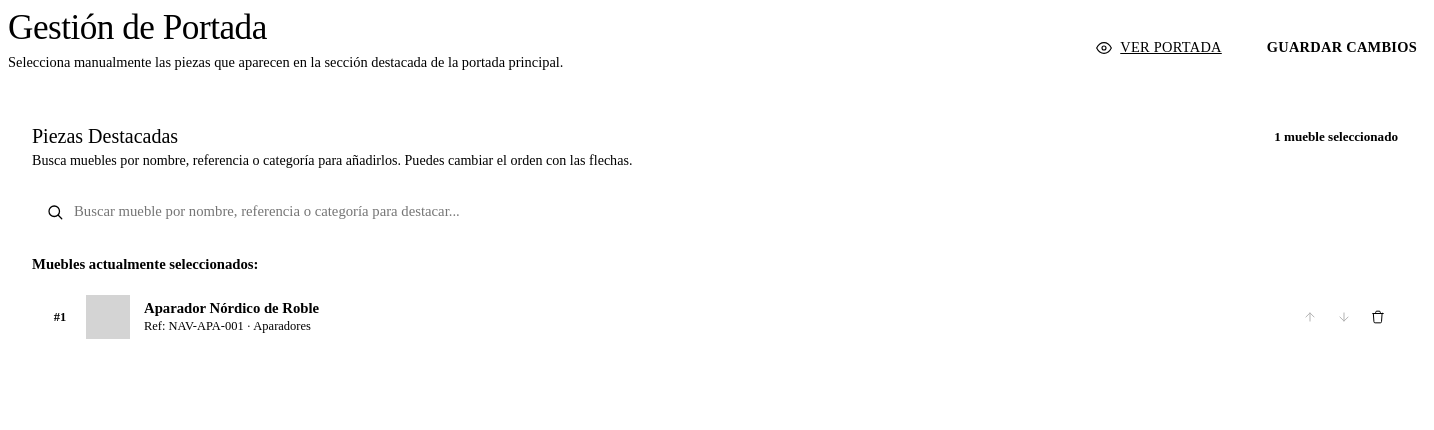
Test case: PortadaTab — Pestaña de Portada en el Panel de Administración › permite buscar y añadir un mueble a la lista de destacados
expect the text "Aparador Nórdico de Roble" is shown: met, box [144, 300, 319, 316]
Type "orejero" into the field named "Buscar muebles para añadir a destacados".
click(720, 212); type("orejero")  # box [32, 191, 1408, 232]
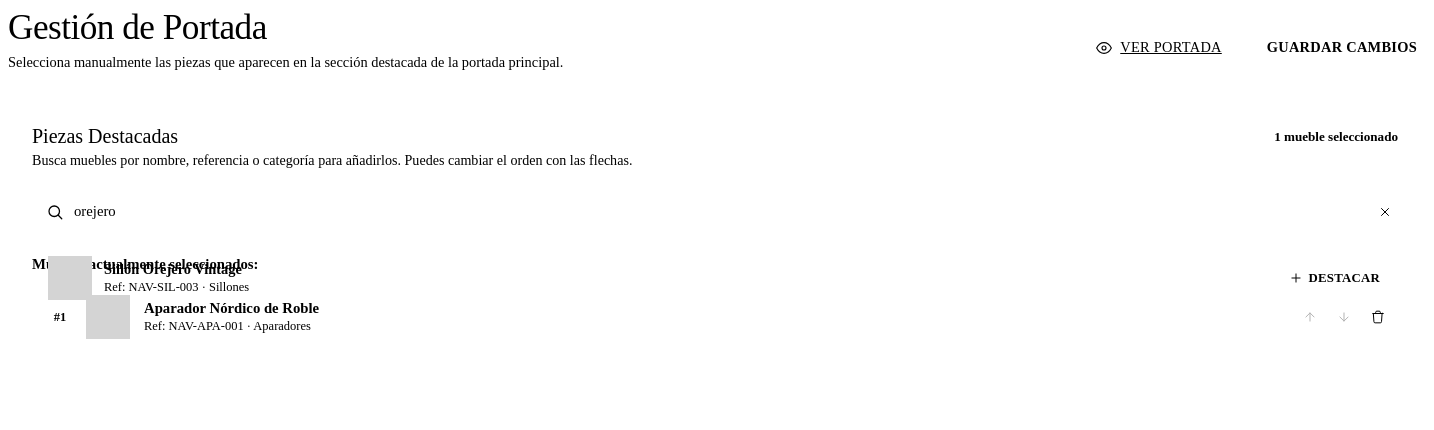
expect the text "Sillón Orejero Vintage" is shown: met, box [104, 261, 242, 277]
# Clic en destacar
Click the button with aria-label "Añadir Sillón Orejero Vintage a destacados".
click(1334, 278)  # box [1276, 264, 1392, 292]
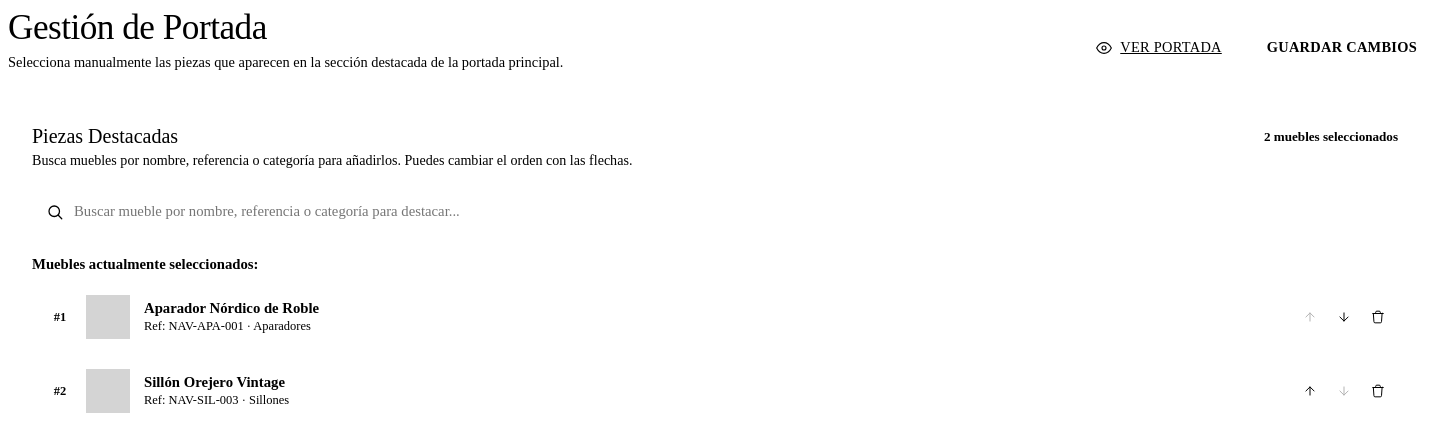
expect the text "Sillón Orejero Vintage" is shown: met, box [144, 374, 285, 390]
expect the field named "Buscar muebles para añadir a destacados" is empty: met, box [32, 191, 1408, 232]
expect the text "2 muebles seleccionados" is shown: met, box [1254, 125, 1408, 149]
